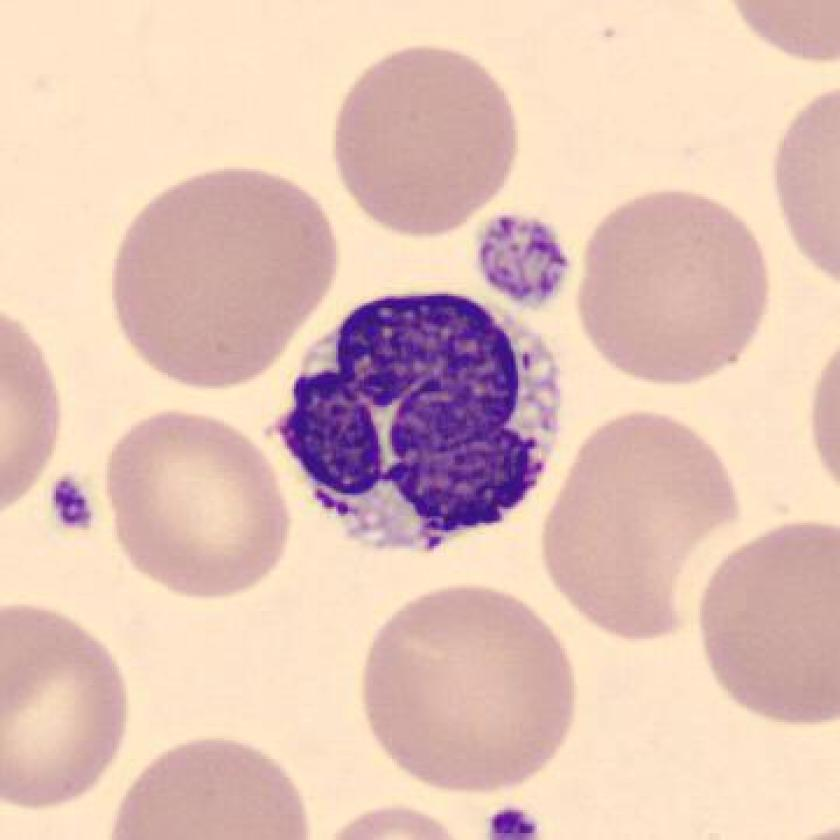basophil: (281, 277, 573, 557)
